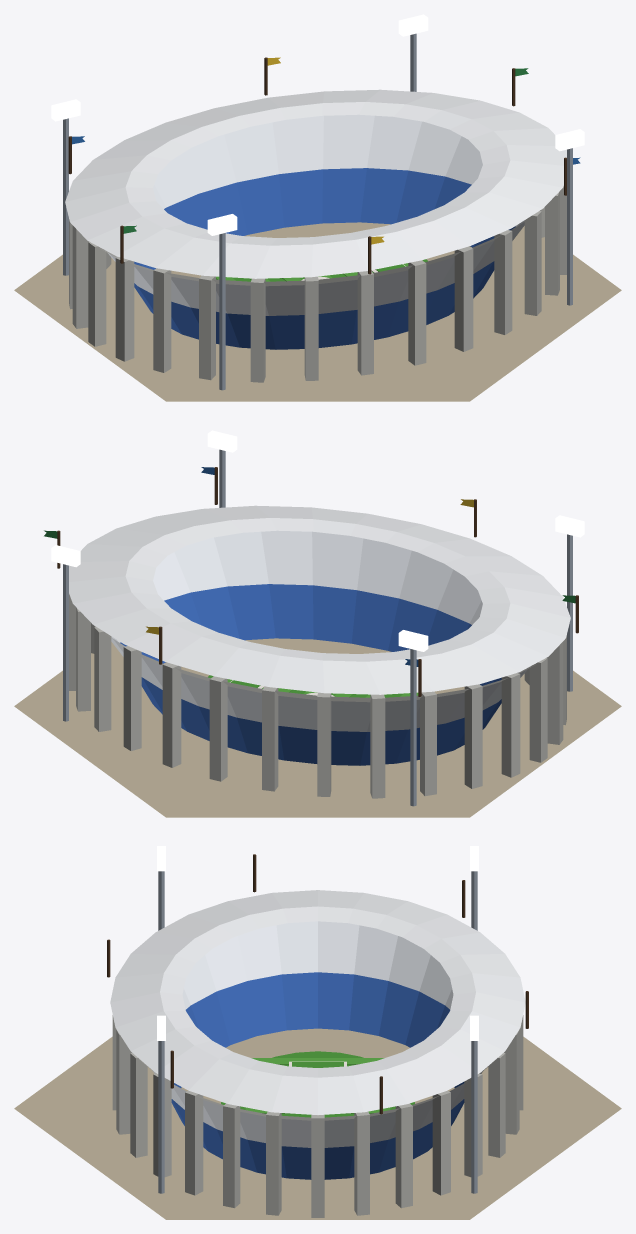
The model's file is wonder_estadio_do_maracana.fbx.
3 views of the same model, one above another, from view 1: azimuth 30°, elevation 25°; view 2: azimuth 150°, elevation 25°; view 3: azimuth 270°, elevation 25° (orthographic).
Visible parts, largest first — view 1: wonder_estadio_do_maracana; view 2: wonder_estadio_do_maracana; view 3: wonder_estadio_do_maracana.
Part boxes in pixels (box(x1,y1,x2,y2)): wonder_estadio_do_maracana: box(14, 14, 621, 401); wonder_estadio_do_maracana: box(14, 430, 621, 817); wonder_estadio_do_maracana: box(14, 846, 621, 1219).
Bounding box in the file's own units: 189 × 65.4 × 210.
